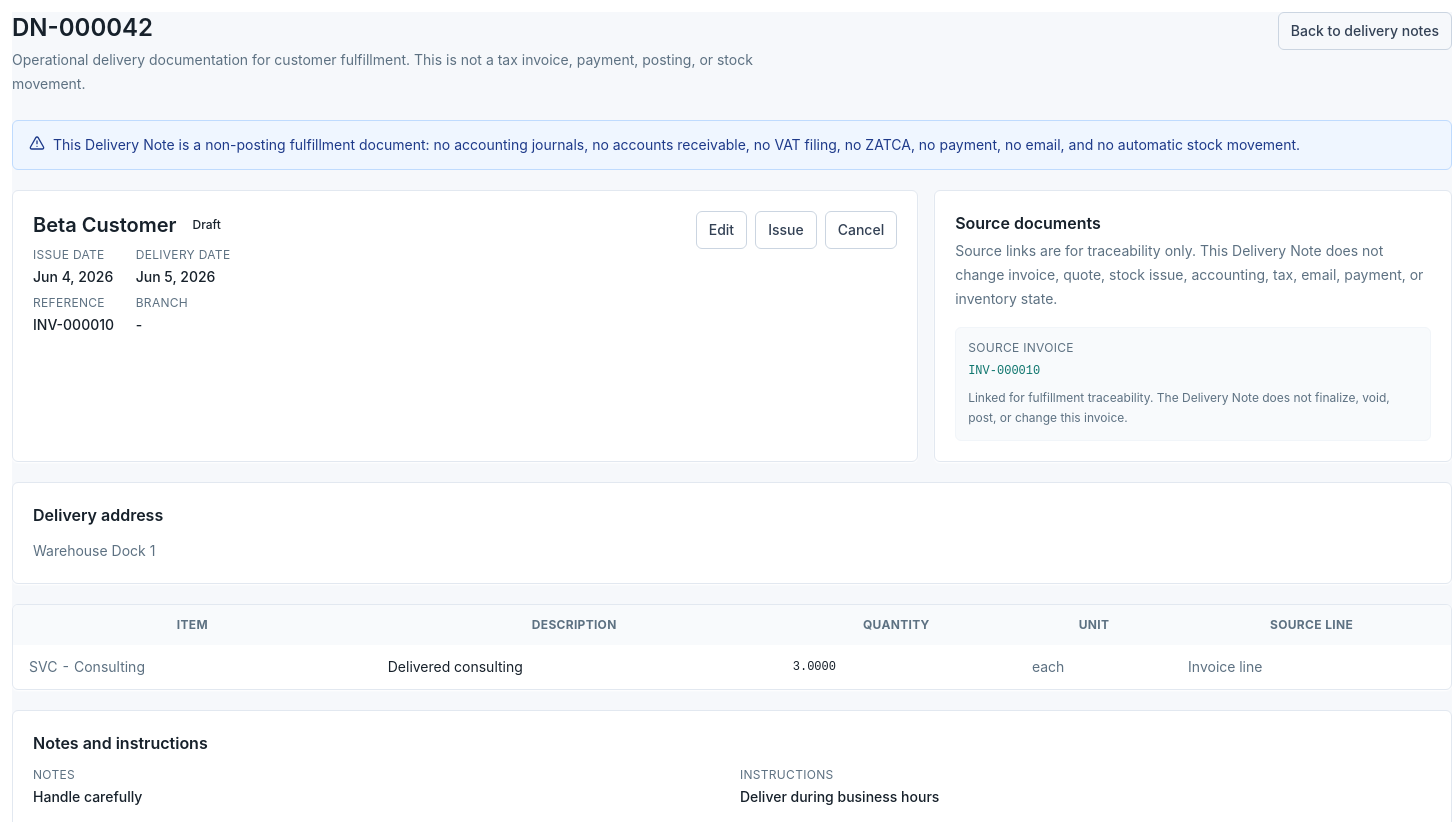
Test case: DeliveryNoteDetailPage › shows draft lifecycle actions and issues a delivery note without invoice wording
Expected: the text "This is not a tax invoice, payment, posting, or stock movement" is shown, [12,51,753,92]
Expected: the button "Mark delivered" is not shown
Click the button "Issue" at (786, 230), box [755,211,817,249]
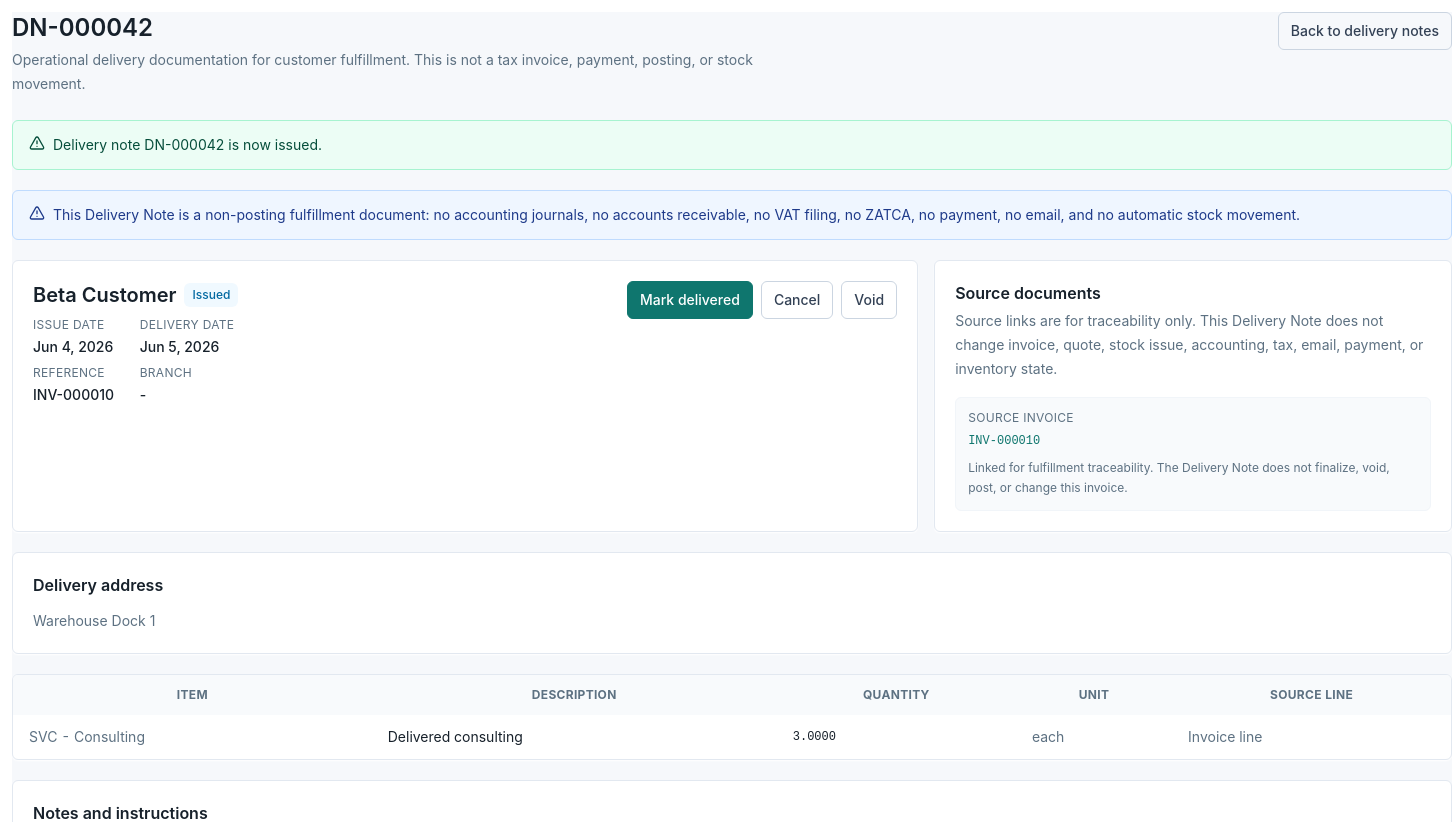
Expected: the text "Delivery note DN-000042 is now issued." is shown, [53,133,322,157]
